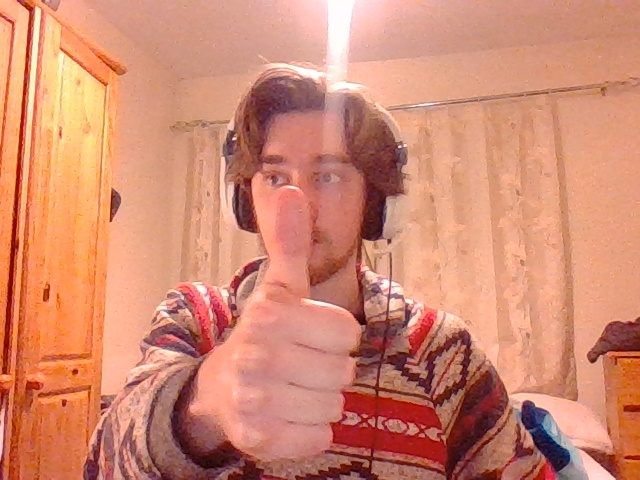good: (223, 186, 361, 458)
